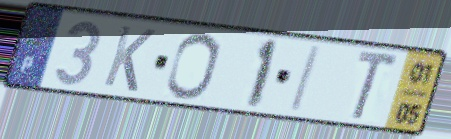1: (242, 36, 280, 110)
3: (52, 17, 106, 88)
I: (286, 43, 325, 116)
K: (99, 23, 159, 96)
O: (163, 31, 223, 102)
T: (348, 47, 403, 124)
